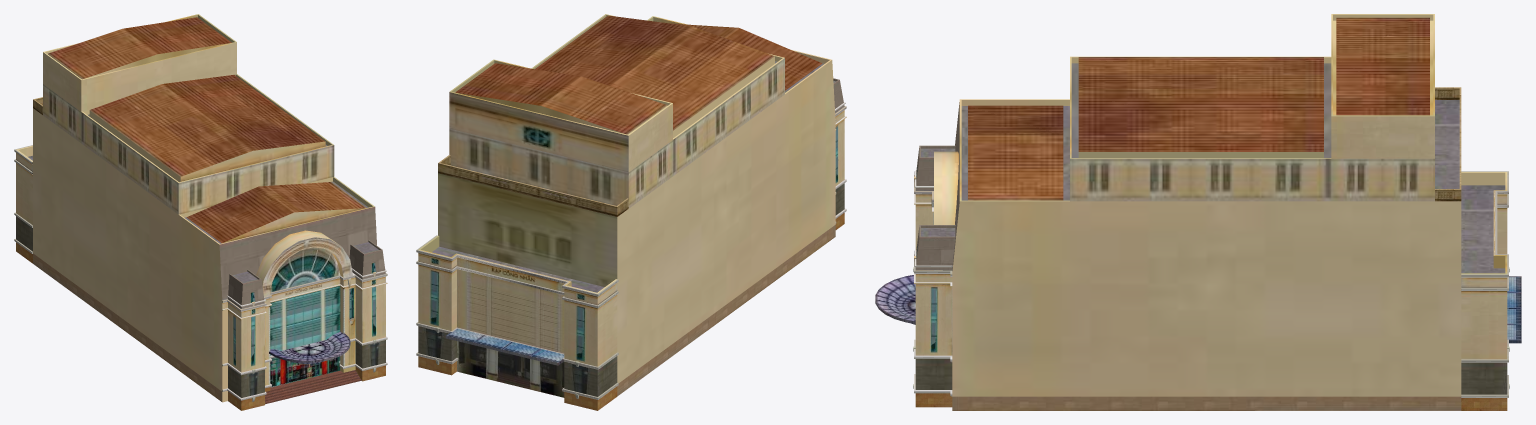
The picture shows the model from 3 angles, left to right: view 1: azimuth 30°, elevation 25°; view 2: azimuth 150°, elevation 25°; view 3: azimuth 270°, elevation 25°; orthographic projection. The views are drawn at different scales.
Parts seen in each view (by area): view 1: HN650_RapCongNhan; view 2: HN650_RapCongNhan; view 3: HN650_RapCongNhan.
Part boxes in pixels (x1,y1,x2,y2): HN650_RapCongNhan: [14, 14, 387, 410]; HN650_RapCongNhan: [416, 14, 846, 410]; HN650_RapCongNhan: [875, 14, 1521, 410].
Size of the model in its own units: 18.78 by 25.52 by 49.43.
Materials: 1 (1 with a texture image).
